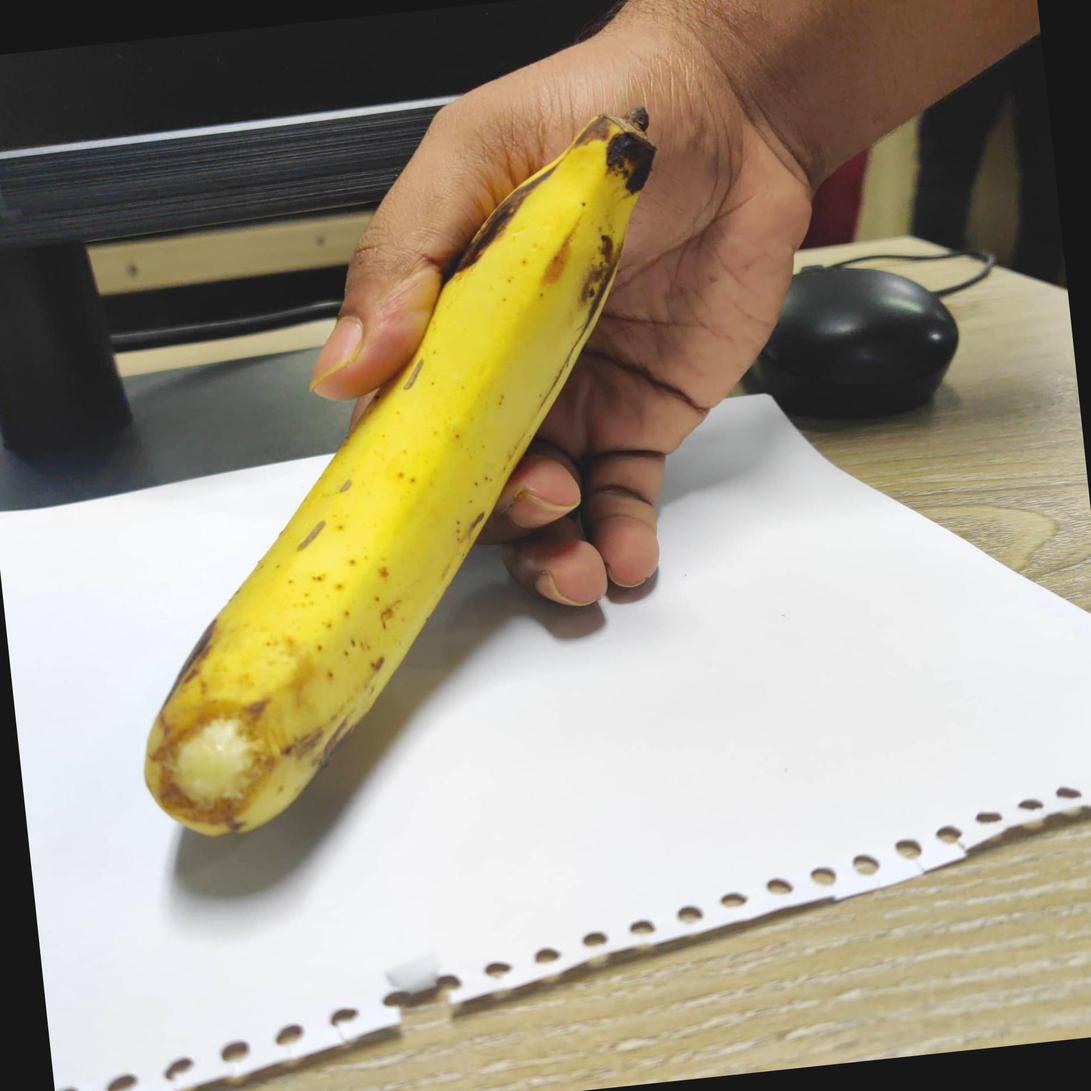Banana Ripe: (80, 65, 926, 1015)
